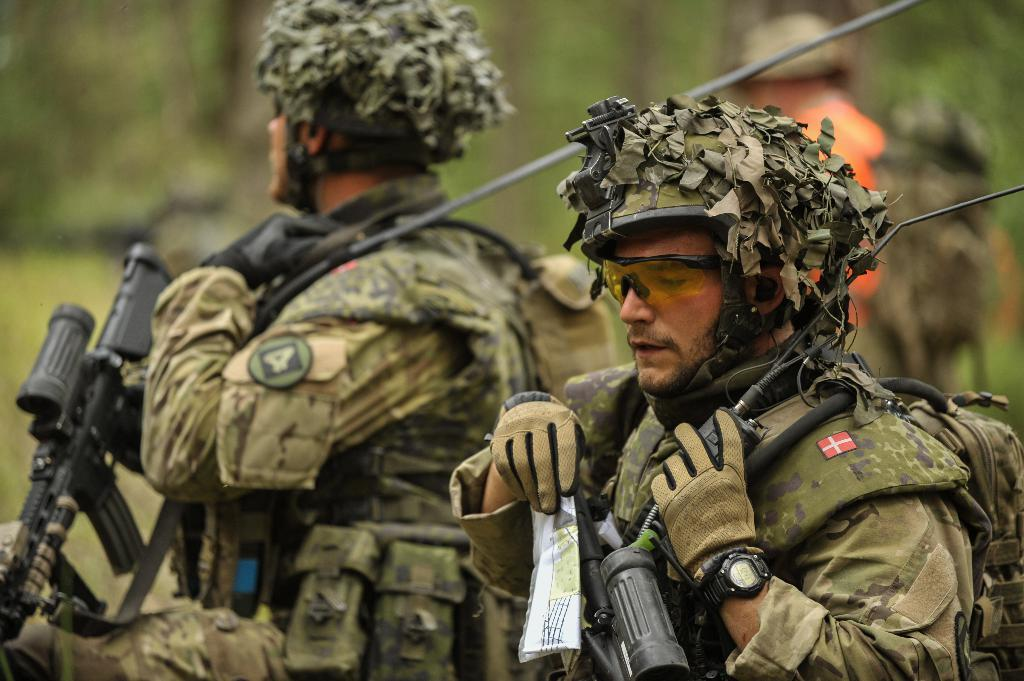Rifle: (0, 248, 141, 645)
